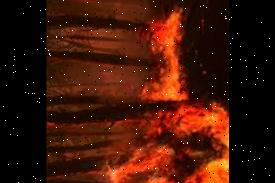fire: (102, 105, 229, 183), (134, 3, 186, 99)
